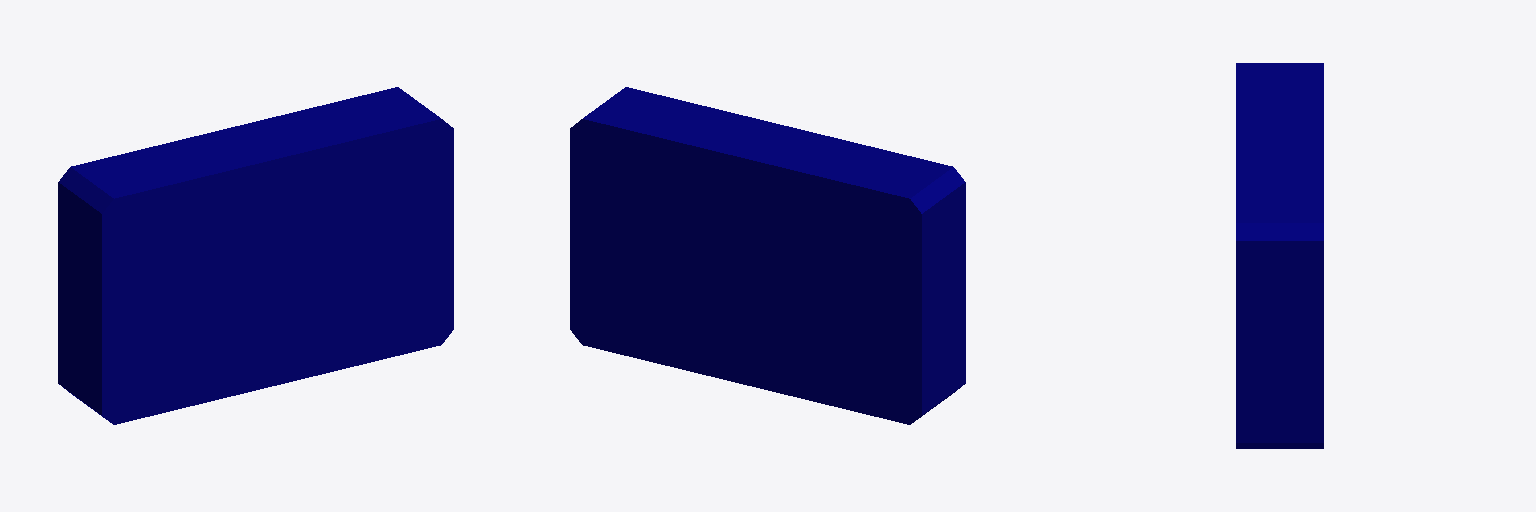
The model's file is RDC4.obj.
3 views of the same model, side by side, from view 1: azimuth 30°, elevation 25°; view 2: azimuth 150°, elevation 25°; view 3: azimuth 270°, elevation 25° (orthographic).
Visible parts, largest first — view 1: RDC004; view 2: RDC004; view 3: RDC004.
Boxes of the visible parts, x1=… form: RDC004: x1=58, y1=87, x2=453, y2=424; RDC004: x1=570, y1=87, x2=965, y2=424; RDC004: x1=1236, y1=63, x2=1323, y2=448.
Bounding box in the file's own units: 5.72 × 3.52 × 1.23.